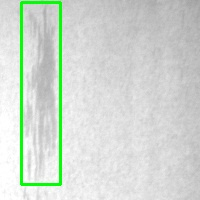inclusion: (21, 2, 60, 184)
